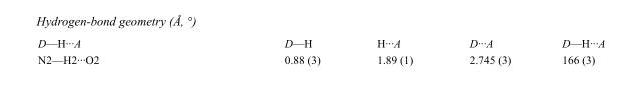table: (37, 36, 604, 65)
table column: (191, 36, 347, 65), (37, 36, 191, 65), (440, 36, 535, 65), (347, 36, 440, 65), (535, 36, 604, 65)
table row: (37, 50, 604, 65), (37, 36, 604, 50)
